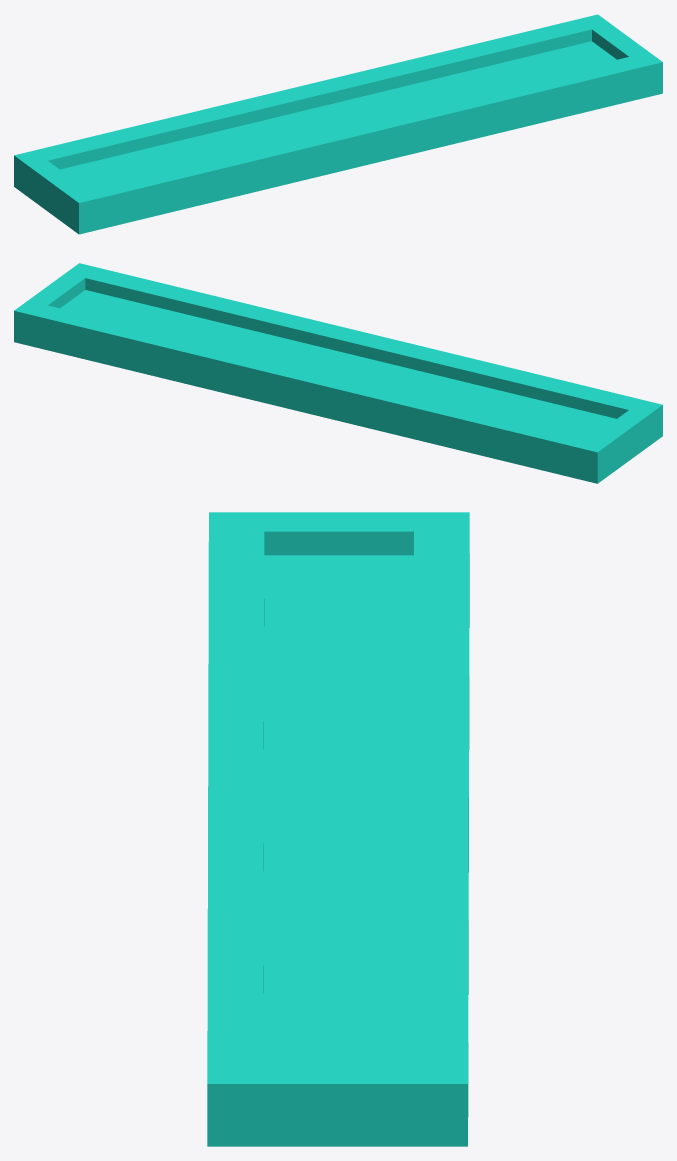
The model's file is LongPlantHolder01_mesh 1.fbx.
3 views of the same model, one above another, from view 1: azimuth 30°, elevation 25°; view 2: azimuth 150°, elevation 25°; view 3: azimuth 270°, elevation 25° (orthographic). The views are drawn at different scales.
Parts seen in each view (by area): view 1: LongPlantHolder01_mesh; view 2: LongPlantHolder01_mesh; view 3: LongPlantHolder01_mesh.
Part boxes in pixels (bbox=[...]): LongPlantHolder01_mesh: bbox=[14, 14, 662, 234]; LongPlantHolder01_mesh: bbox=[14, 263, 662, 483]; LongPlantHolder01_mesh: bbox=[207, 512, 469, 1146].
Size of the model in its own units: 1437 by 76.62 by 280.
